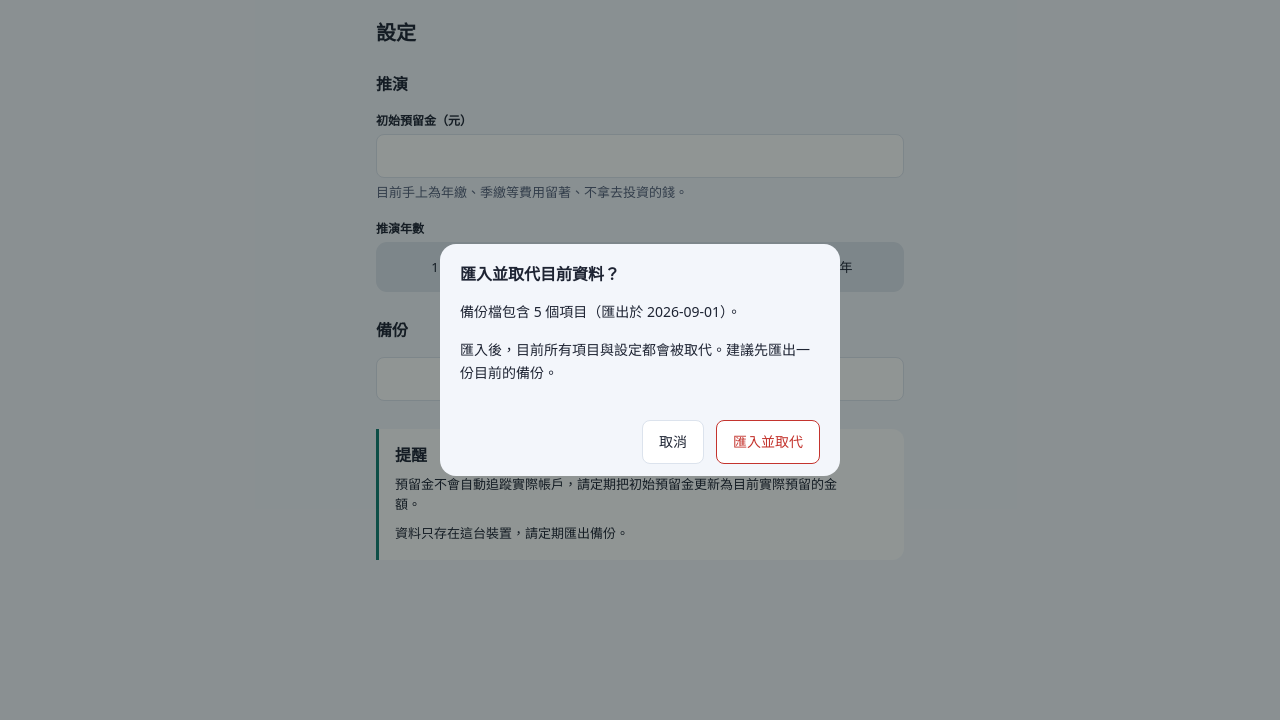
Test: 匯入 › 寫入失敗時資料未變更
The image size is (1280, 720).
Earlier steps of the test are not shown.
Expected: the button "匯入備份" is shown, [646,357,904,401]
Click the button "匯入並取代" at x=768, y=442, box [716,420,820,464]
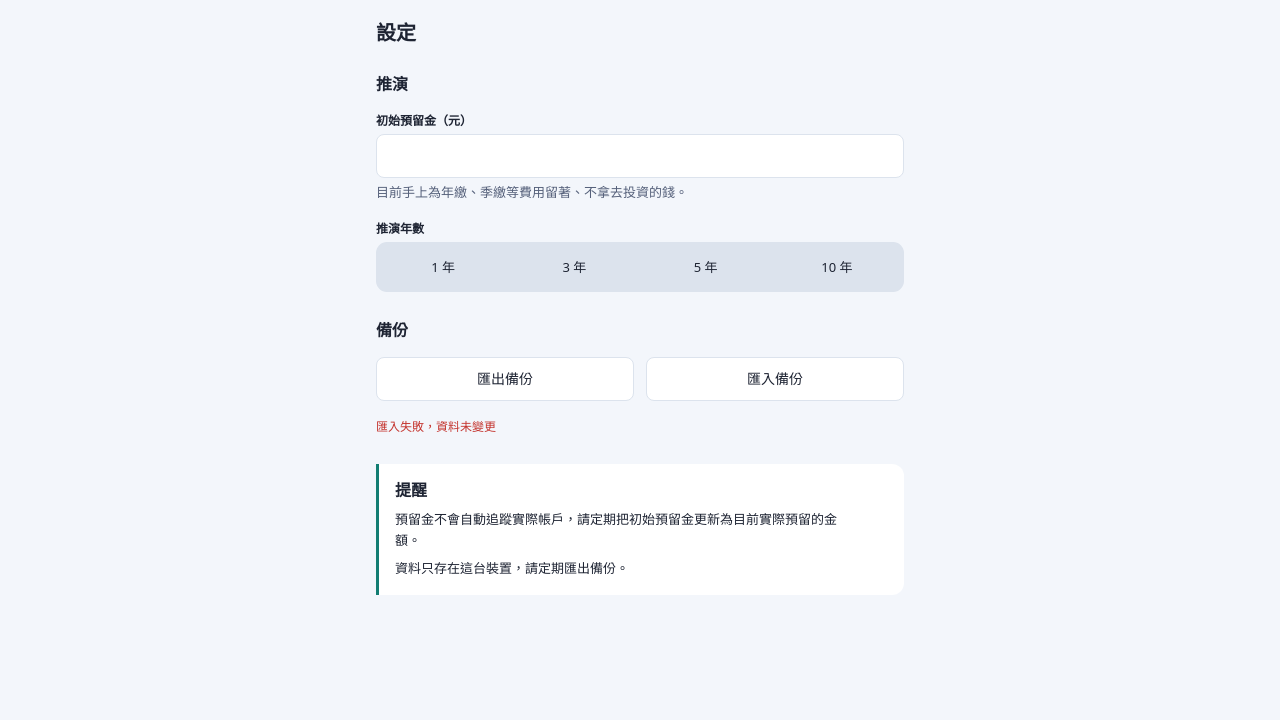
Expected: the text "匯入失敗，資料未變更" is shown, [376,418,496,435]
